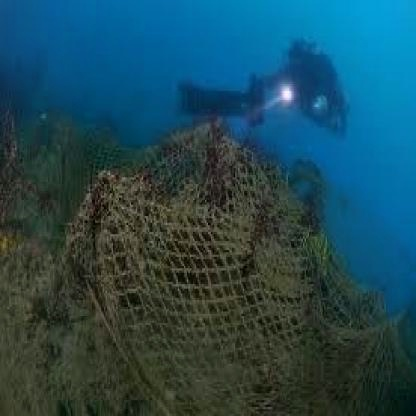net: (6, 127, 402, 416)
